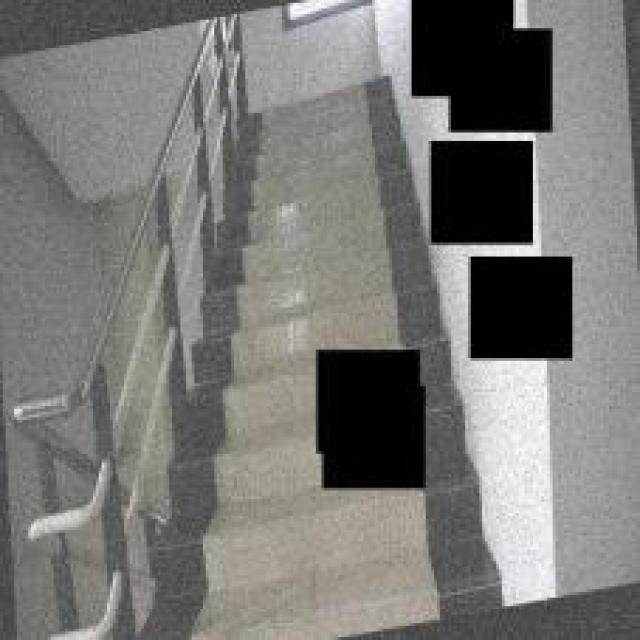upstair: (213, 83, 413, 334)
